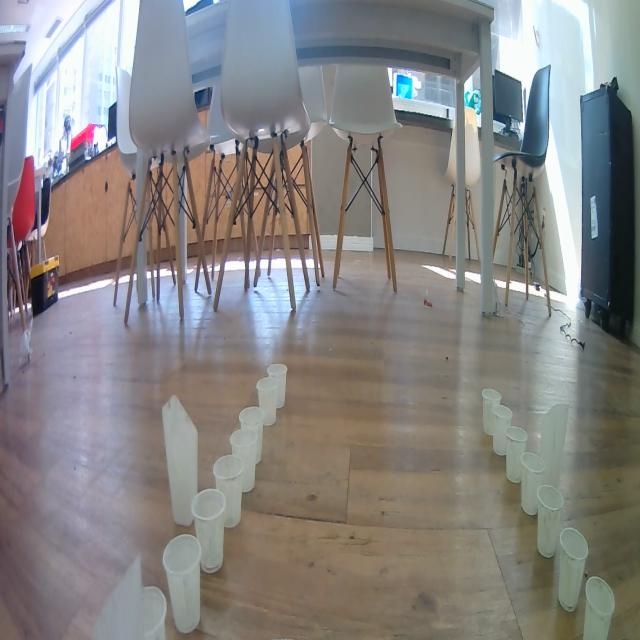erva_daninha: (88, 554, 145, 640), (162, 394, 198, 527), (542, 402, 568, 488)
planta: (162, 534, 202, 634), (191, 488, 226, 574), (558, 526, 588, 612), (212, 454, 244, 529), (582, 575, 615, 640), (537, 484, 564, 559), (230, 428, 257, 493), (521, 451, 546, 516), (238, 406, 265, 465), (140, 585, 167, 640), (505, 425, 529, 484), (492, 404, 514, 456), (256, 376, 278, 427), (267, 363, 288, 409), (482, 388, 502, 436)
